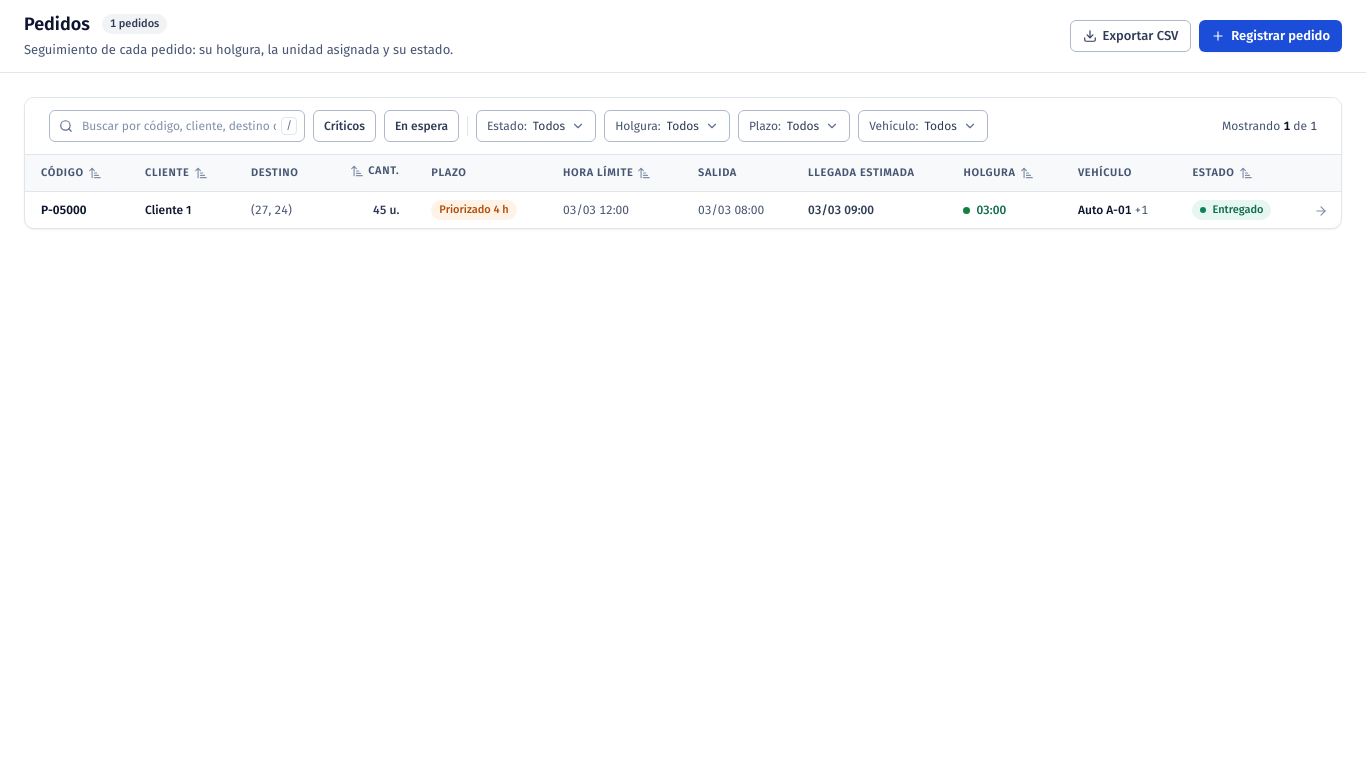
Pedidos · detalle del pedido › lista todas las unidades de un pedido fraccionado, sin las liberadas por avería
Click the text "P-05000": (77, 210) [25,192,129,228]
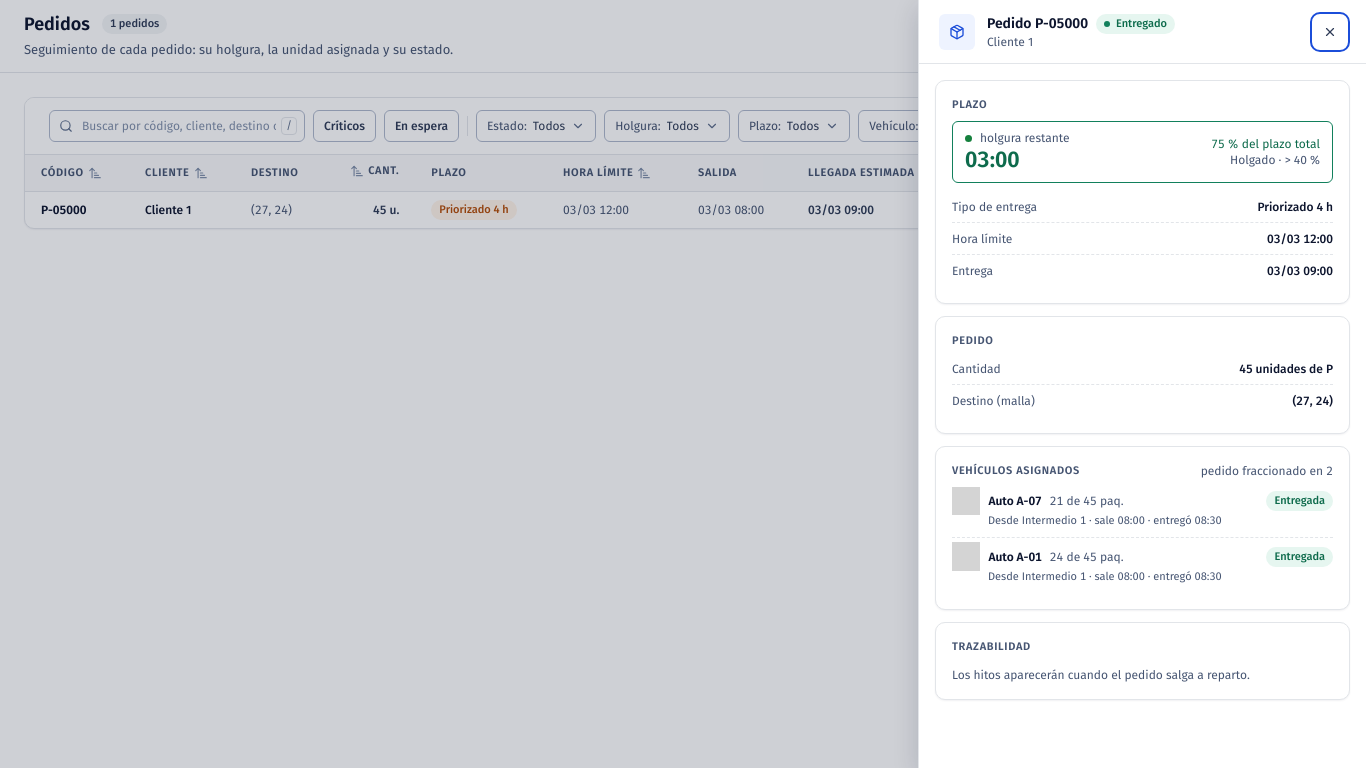
Expected: the heading "Vehículos asignados" is shown, [952,463,1080,479]
Expected: the text "pedido fraccionado en 2" is shown, [1201,463,1333,479]
Expected: the list item that starts with "Auto A-07" shows "21 de 45 paq.", [952,483,1333,537]
